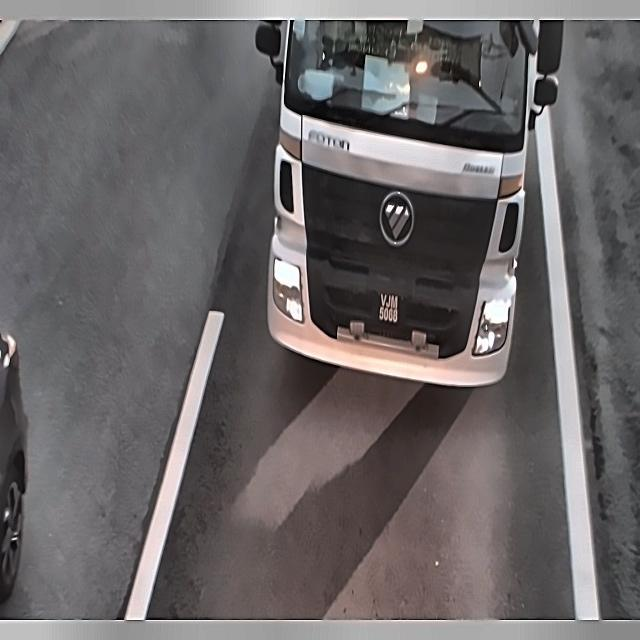car: (366, 281, 407, 338)
